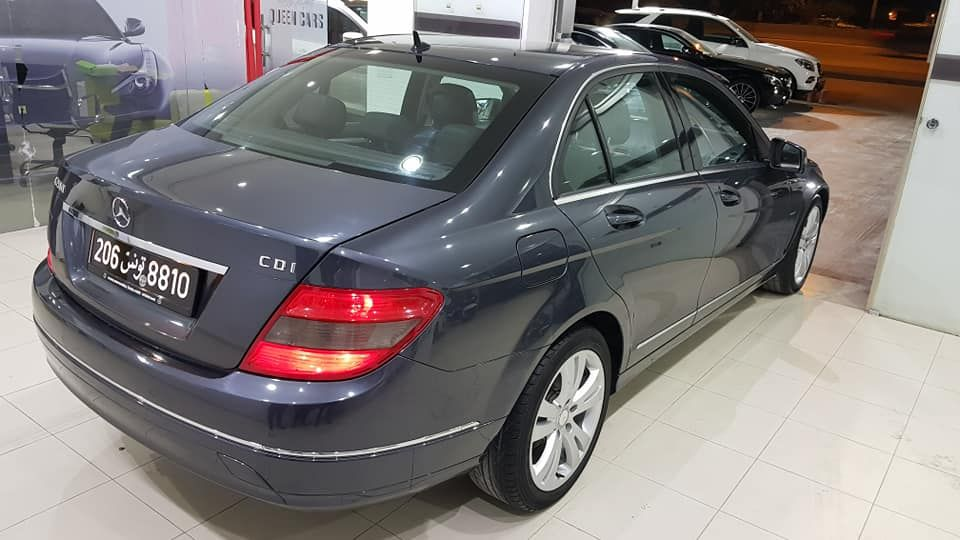LP: (86, 226, 198, 311)
